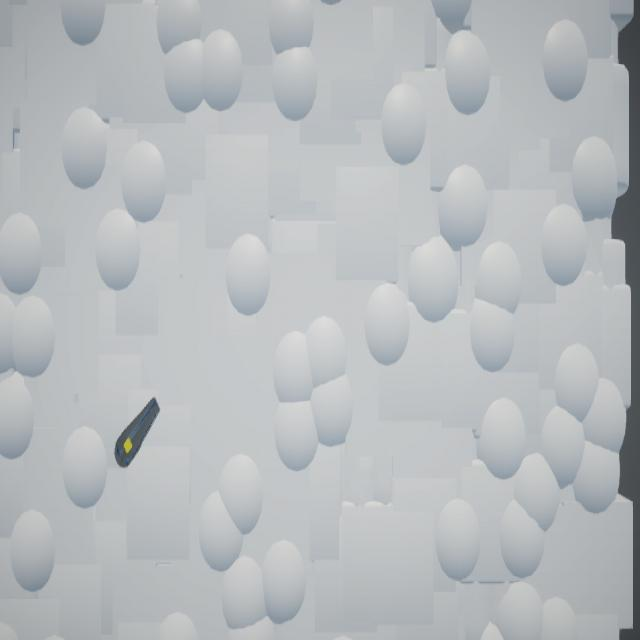handle_knife: (115, 397, 162, 470)
